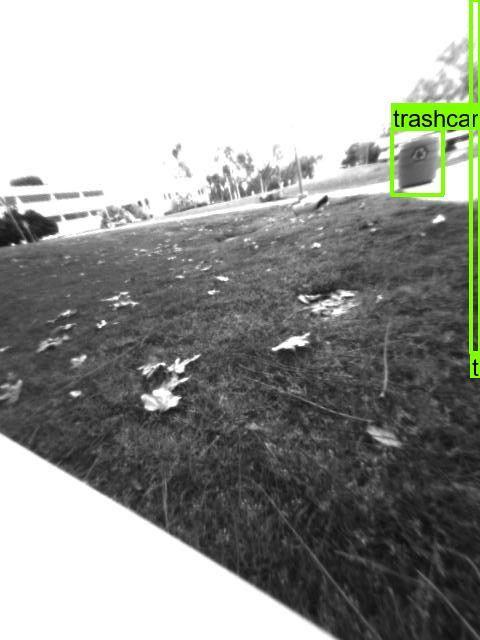trashcan: (394, 131, 440, 189)
